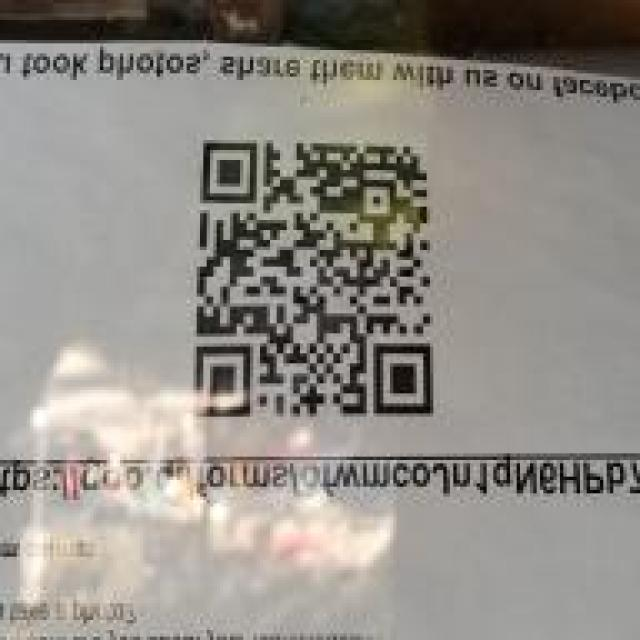QR_CODE: (177, 133, 438, 440)
